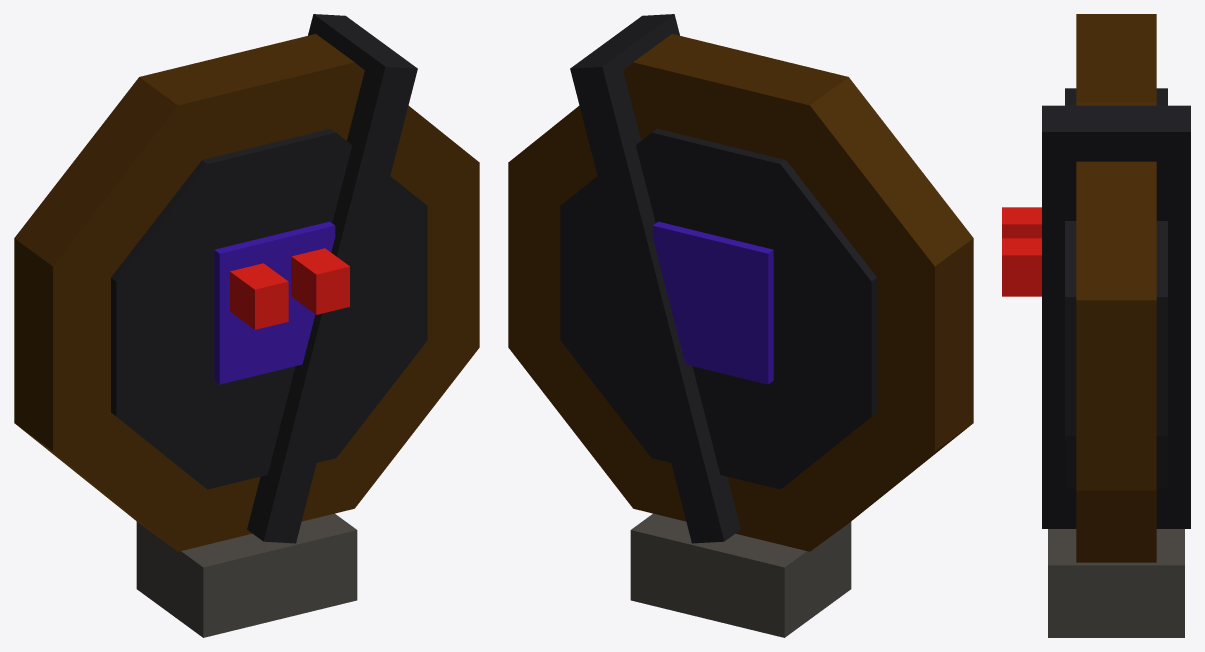
Rendered from MonedaMaldita_low.fbx.
The picture shows the model from 3 angles, left to right: view 1: azimuth 30°, elevation 25°; view 2: azimuth 150°, elevation 25°; view 3: azimuth 270°, elevation 25°; orthographic projection. The views are drawn at different scales.
Parts seen in each view (by area): view 1: MonedaMaldita_low; view 2: MonedaMaldita_low; view 3: MonedaMaldita_low.
Boxes of the visible parts, x1=… form: MonedaMaldita_low: x1=14, y1=14, x2=479, y2=637; MonedaMaldita_low: x1=508, y1=14, x2=973, y2=637; MonedaMaldita_low: x1=1002, y1=14, x2=1190, y2=637.
Bounding box in the file's own units: 44.35 × 52.59 × 16.5.
